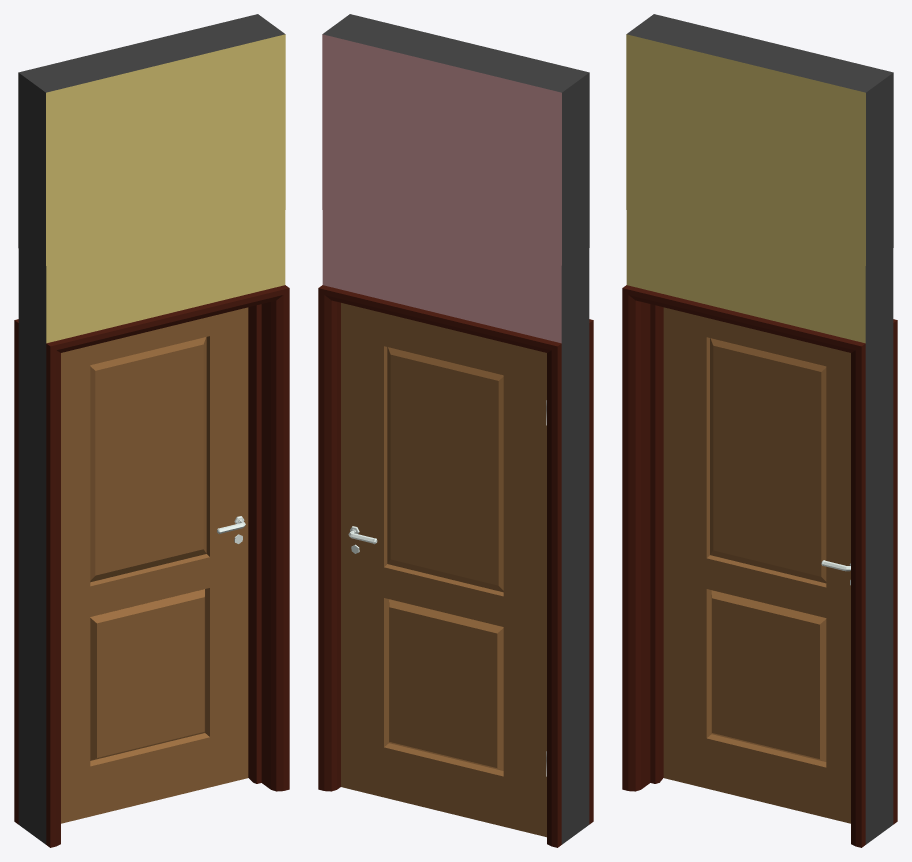
The model's file is Doorway.fbx.
3 renders of one model, left to right at view 1: azimuth 30°, elevation 25°; view 2: azimuth 150°, elevation 25°; view 3: azimuth 330°, elevation 25°, orthographic.
Parts seen in each view (by area): view 1: Doorframe, Door; view 2: Doorframe, Door; view 3: Doorframe, Door.
Part boxes in pixels (bbox=[...]): Doorframe: bbox=[14, 14, 289, 847]; Door: bbox=[61, 307, 248, 823]; Doorframe: bbox=[318, 14, 593, 847]; Door: bbox=[341, 303, 546, 837]; Doorframe: bbox=[622, 14, 897, 847]; Door: bbox=[663, 307, 850, 823].
Bounding box in the file's own units: 100 × 301 × 26.
